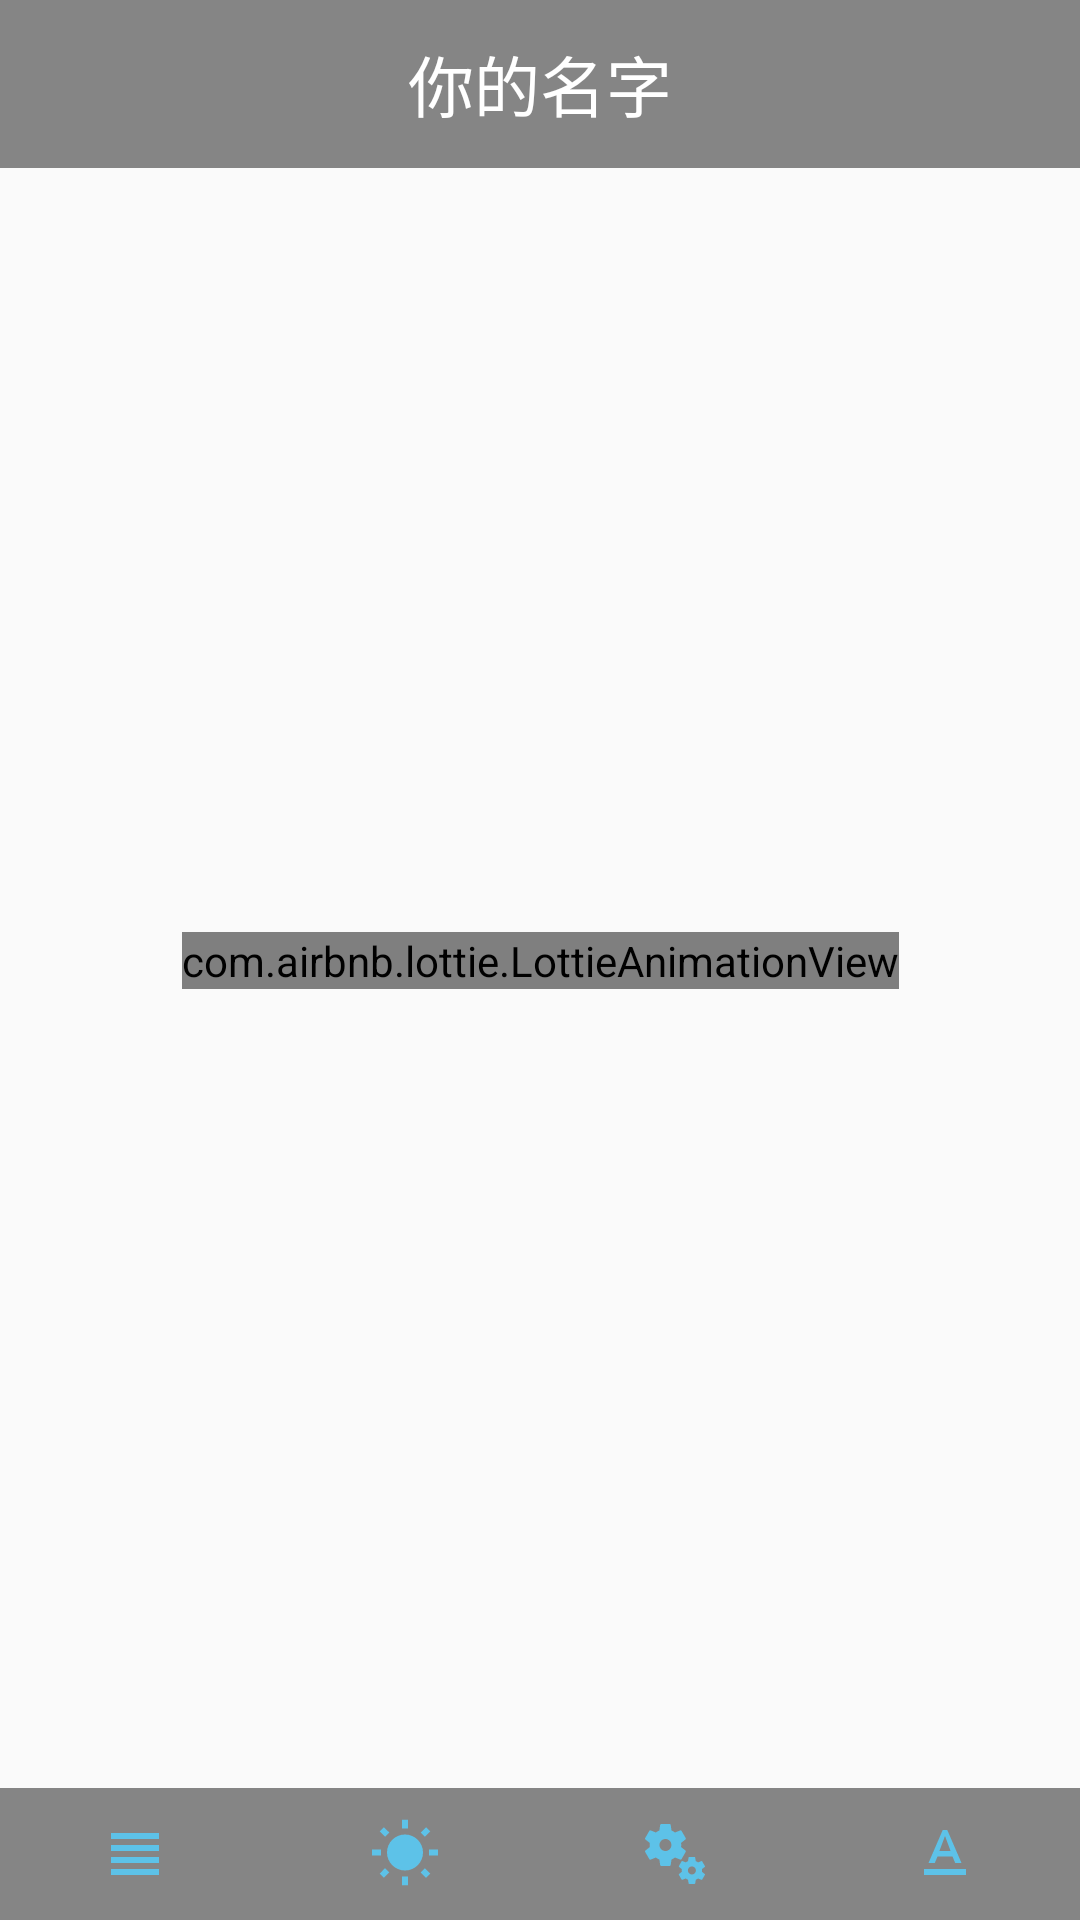

Where icons sit on this 1080px x 1920px app screen, as (x1, y1, x2, y2):
miscellaneous services: (645, 1824, 705, 1884)
sunny: (372, 1819, 438, 1886)
text format: (924, 1830, 966, 1875)
view headline: (111, 1833, 159, 1875)
